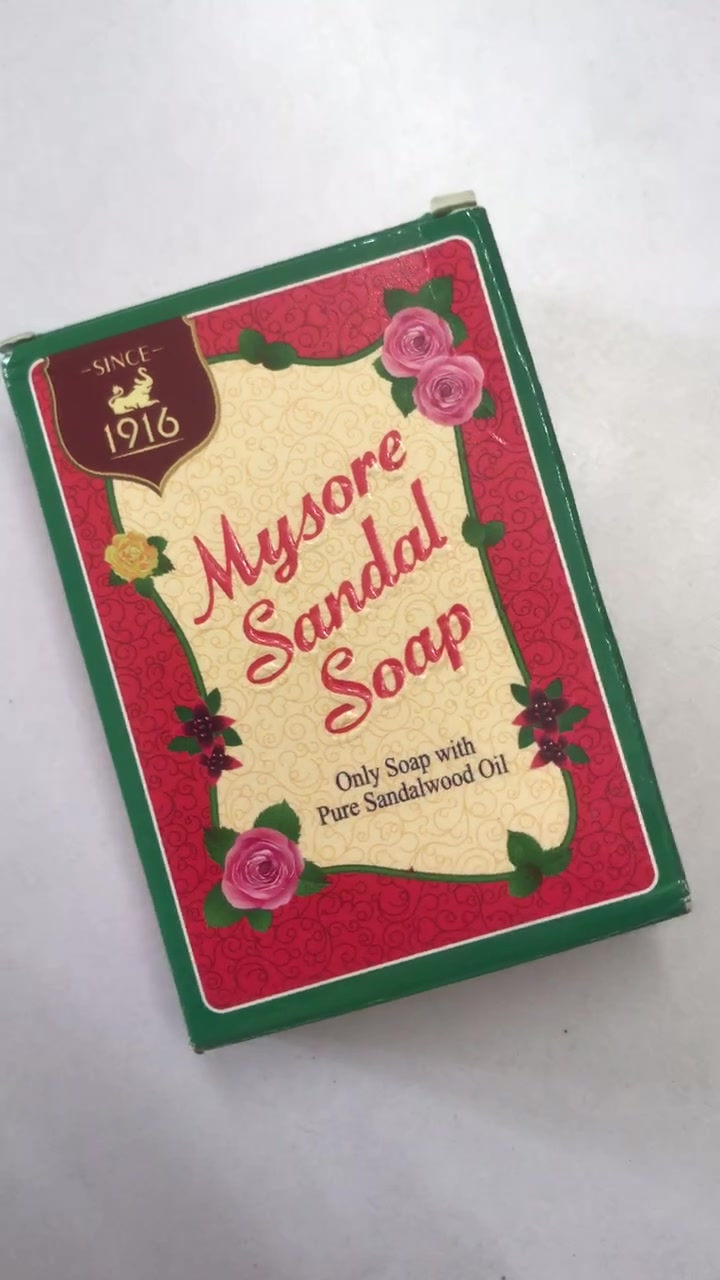mysore sandal soap: (5, 213, 689, 1052)
